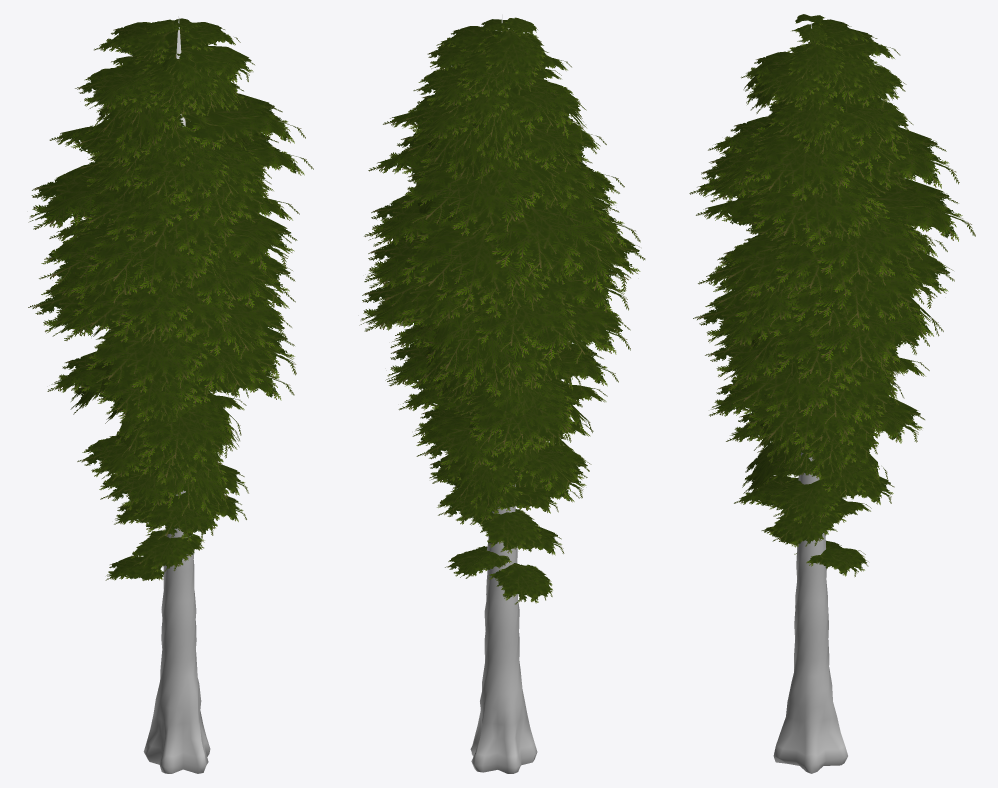
Rendered from TreeBig002.fbx.
3 views of the same model, side by side, from view 1: azimuth 30°, elevation 25°; view 2: azimuth 150°, elevation 25°; view 3: azimuth 270°, elevation 25° (orthographic).
Visible parts, largest first — view 1: TreeBig002_LOD0; view 2: TreeBig002_LOD0; view 3: TreeBig002_LOD0.
Part boxes in pixels (box(x1,y1,x2,y2)): TreeBig002_LOD0: box(28, 16, 313, 773); TreeBig002_LOD0: box(359, 14, 645, 773); TreeBig002_LOD0: box(689, 14, 975, 773).
Bounding box in the file's own units: 1516 × 3996 × 1488.
